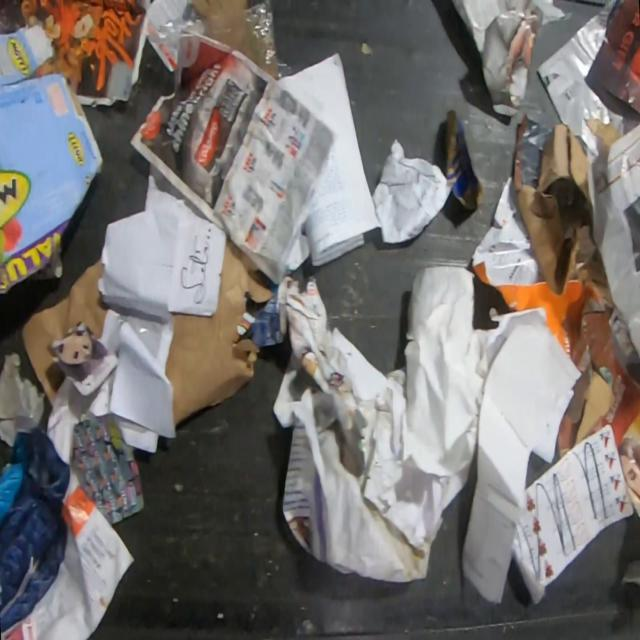cardboard: (0, 25, 104, 298), (165, 237, 274, 426), (21, 255, 112, 408), (516, 182, 596, 296), (537, 124, 591, 216), (573, 370, 615, 448)
soft_plastic: (148, 0, 294, 79)
